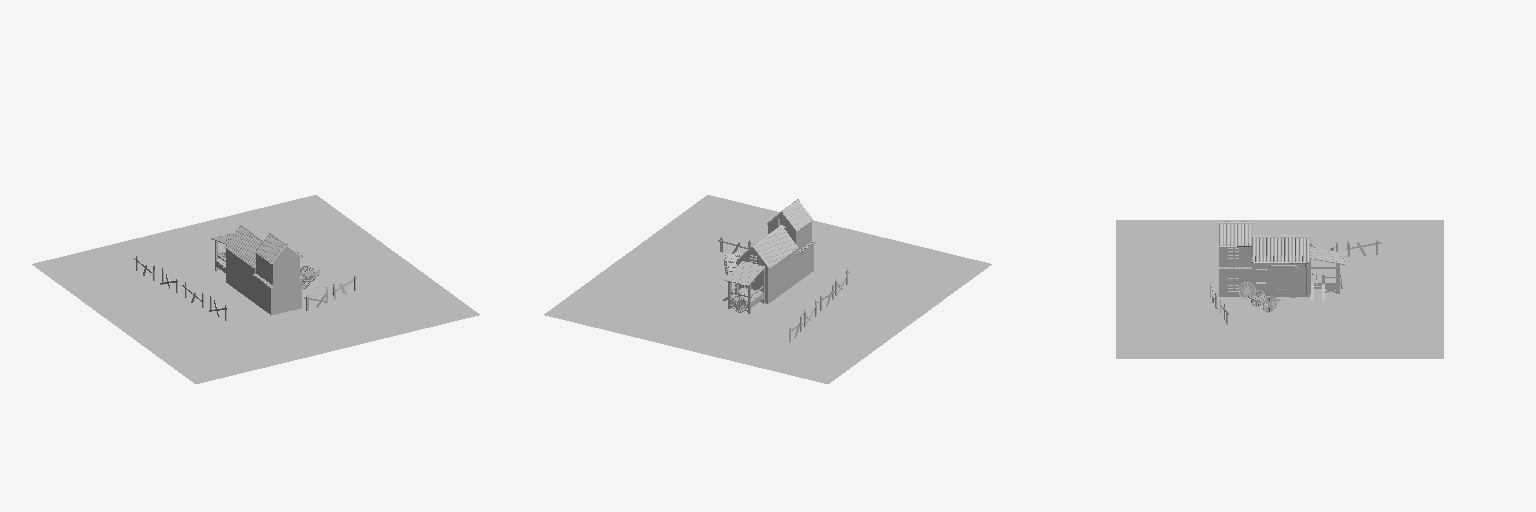
File: SimpleScene.obj
The picture shows the model from 3 angles: view 1: azimuth 30°, elevation 25°; view 2: azimuth 150°, elevation 25°; view 3: azimuth 270°, elevation 25°; orthographic projection.
Visible parts, largest first — view 1: SimpleScene; view 2: SimpleScene; view 3: SimpleScene.
Boxes of the visible parts, x1,y1,x2,y2 form: SimpleScene: [32, 195, 479, 383]; SimpleScene: [544, 195, 991, 383]; SimpleScene: [1116, 220, 1443, 358].
Size of the model in its own units: 5.82 by 1.35 by 5.82.